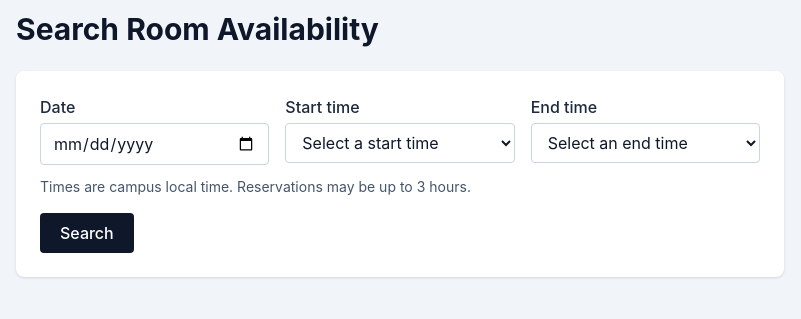
Test case: RoomAvailabilityPage › requires a date before searching
Select "2:00 PM" in the dropdown labelled "Start time" at (400, 143), box [285,123,515,163]
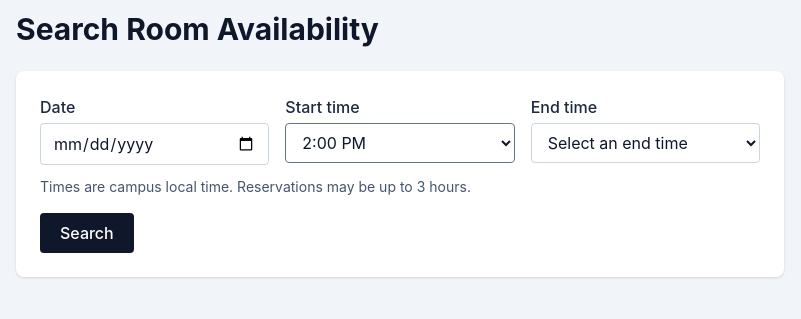
Select "4:00 PM" in the dropdown labelled "End time" at (645, 143), box [531,123,760,163]
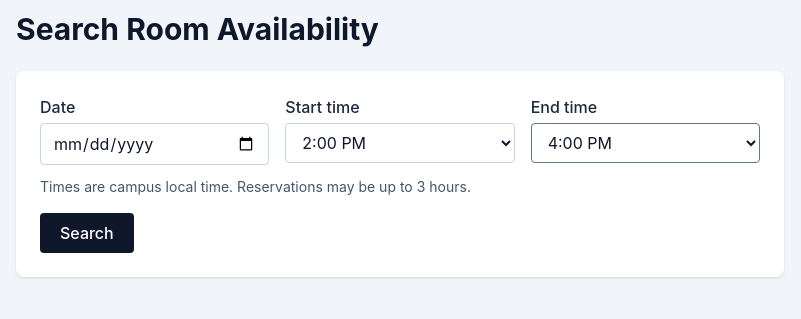
Click the button "Search" at (87, 233), box [40,213,134,253]
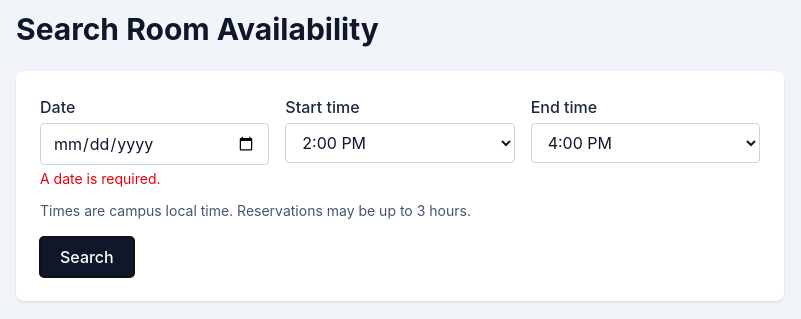
Check: the text "A date is required." is shown, box [40,170,160,187]
